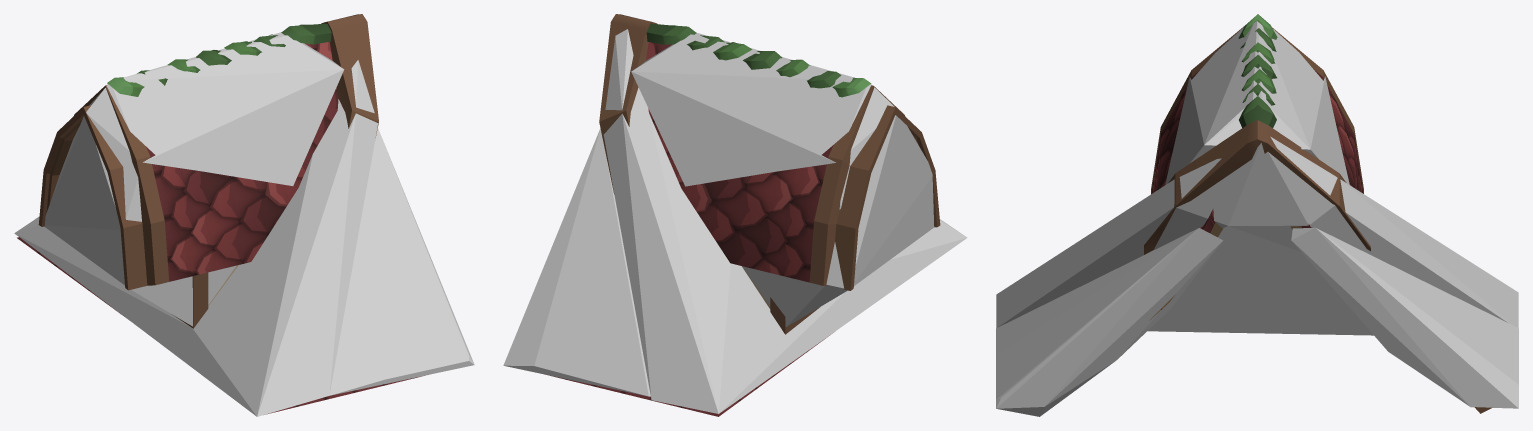
File: SM_Bld_Roof_Concave_Corner_Window_01.fbx
The picture shows the model from 3 angles, left to right: view 1: azimuth 30°, elevation 25°; view 2: azimuth 150°, elevation 25°; view 3: azimuth 270°, elevation 25°; orthographic projection. The views are drawn at different scales.
Parts seen in each view (by area): view 1: SM_Bld_Roof_Concave_Corner_Window_01_ConvexHulls, SM_Bld_Roof_Concave_Corner_Window_01; view 2: SM_Bld_Roof_Concave_Corner_Window_01_ConvexHulls, SM_Bld_Roof_Concave_Corner_Window_01; view 3: SM_Bld_Roof_Concave_Corner_Window_01_ConvexHulls, SM_Bld_Roof_Concave_Corner_Window_01.
Part boxes in pixels (left/top/right/bottom): SM_Bld_Roof_Concave_Corner_Window_01_ConvexHulls: left=14, top=32, right=474, bottom=416; SM_Bld_Roof_Concave_Corner_Window_01: left=17, top=14, right=424, bottom=414; SM_Bld_Roof_Concave_Corner_Window_01_ConvexHulls: left=503, top=29, right=967, bottom=413; SM_Bld_Roof_Concave_Corner_Window_01: left=550, top=14, right=940, bottom=416; SM_Bld_Roof_Concave_Corner_Window_01_ConvexHulls: left=996, top=21, right=1518, bottom=416; SM_Bld_Roof_Concave_Corner_Window_01: left=1144, top=14, right=1491, bottom=413.
Bounding box in the file's own units: 346 × 527 × 326.
4 materials, 3 textured.
